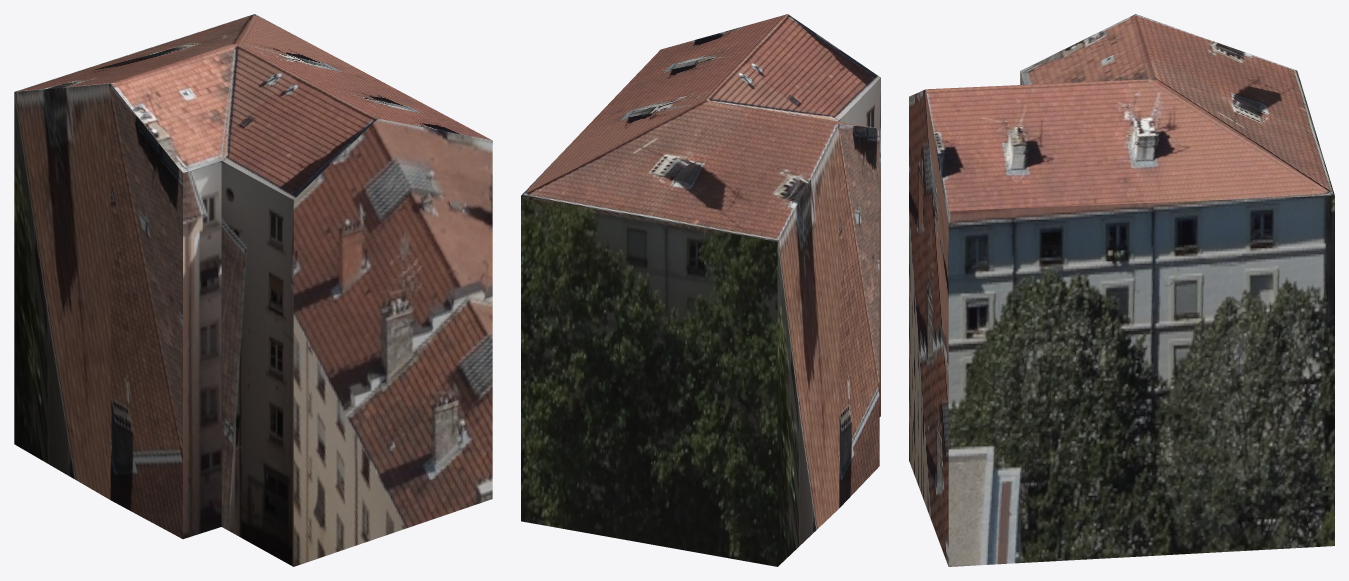
The picture shows the model from 3 angles, left to right: view 1: azimuth 30°, elevation 25°; view 2: azimuth 150°, elevation 25°; view 3: azimuth 270°, elevation 25°; orthographic projection. The views are drawn at different scales.
Parts seen in each view (by area): view 1: Z_UP; view 2: Z_UP; view 3: Z_UP.
Boxes of the visible parts, x1,y1,x2,y2 form: Z_UP: (14,14,492,566); Z_UP: (521,14,880,566); Z_UP: (909,14,1334,566).
Bounding box in the file's own units: 17.09 × 22.64 × 20.98.
Materials: 2 (1 with a texture image).
